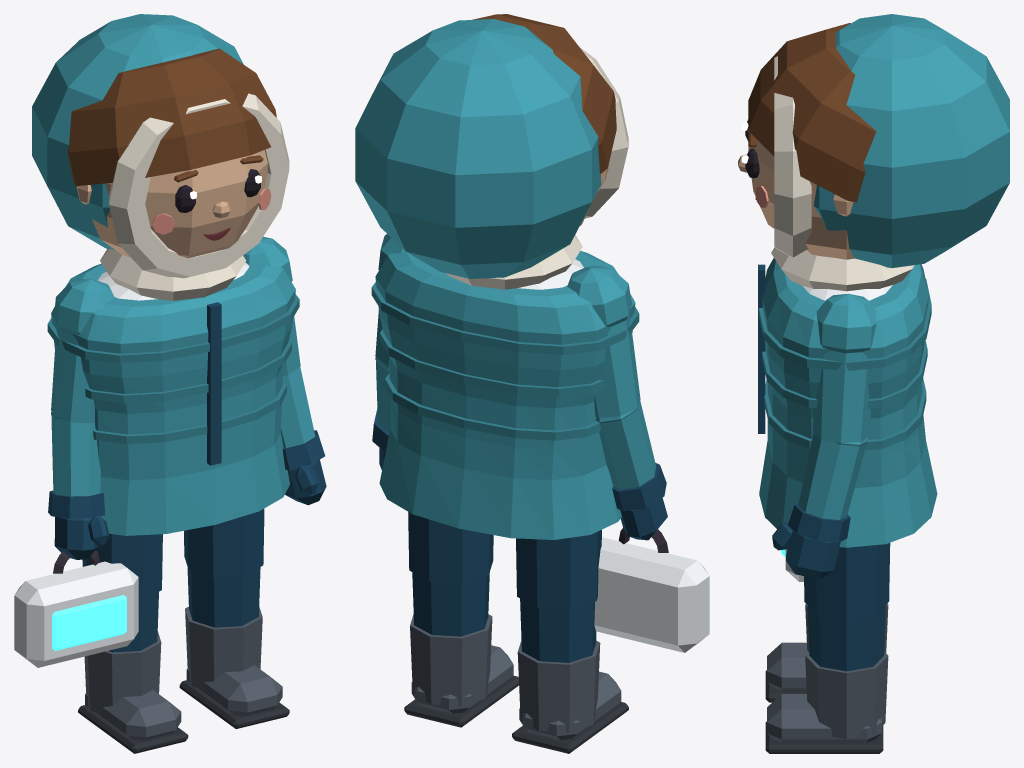
The model's file is fro-k1.glb.
3 renders of one model, left to right at view 1: azimuth 30°, elevation 25°; view 2: azimuth 150°, elevation 25°; view 3: azimuth 270°, elevation 25°, orthographic. The views are drawn at different scales.
Parts seen in each view (by area): view 1: parka, kapuze, haare, gegenstand_samplecase, arm_r, kopf, schuh_l, schuh_r, bein_l, arm_l, bein_r, kragen (+4 smaller); view 2: parka, kapuze, gegenstand_samplecase, arm_r, bein_r, bein_l, schuh_r, schuh_l, haare, kragen, arm_l, hand_r (+1 smaller); view 3: kapuze, parka, arm_l, haare, schuh_l, bein_l, kragen, kopf, schuh_r, hand_l, gesicht, torso.
Part boxes in pixels (x1=…): parka: x1=47, y1=263, x2=299, y2=535; kapuze: x1=32, y1=14, x2=289, y2=278; haare: x1=67, y1=48, x2=276, y2=186; gegenstand_samplecase: x1=14, y1=550, x2=138, y2=667; arm_r: x1=48, y1=279, x2=114, y2=518; kopf: x1=76, y1=150, x2=267, y2=258; schuh_l: x1=179, y1=606, x2=289, y2=728; schuh_r: x1=78, y1=631, x2=188, y2=753; bein_l: x1=184, y1=509, x2=264, y2=627; arm_l: x1=243, y1=236, x2=325, y2=470; bein_r: x1=82, y1=533, x2=162, y2=652; kragen: x1=100, y1=248, x2=246, y2=300; parka: x1=371, y1=251, x2=639, y2=539; kapuze: x1=355, y1=19, x2=628, y2=278; gegenstand_samplecase: x1=594, y1=528, x2=709, y2=652; arm_r: x1=567, y1=265, x2=666, y2=511; bein_r: x1=516, y1=529, x2=601, y2=662; bein_l: x1=408, y1=512, x2=493, y2=636; schuh_r: x1=512, y1=640, x2=628, y2=753; schuh_l: x1=404, y1=614, x2=518, y2=727; haare: x1=472, y1=14, x2=616, y2=174; kragen: x1=446, y1=235, x2=582, y2=289; arm_l: x1=372, y1=234, x2=405, y2=452; hand_r: x1=620, y1=498, x2=667, y2=540; kapuze: x1=774, y1=14, x2=1009, y2=267; parka: x1=758, y1=258, x2=937, y2=547; arm_l: x1=788, y1=293, x2=876, y2=542; haare: x1=748, y1=23, x2=876, y2=202; schuh_l: x1=765, y1=652, x2=888, y2=753; bein_l: x1=804, y1=543, x2=890, y2=671; kragen: x1=771, y1=248, x2=914, y2=291; kopf: x1=748, y1=131, x2=854, y2=259; schuh_r: x1=765, y1=604, x2=888, y2=702; hand_l: x1=772, y1=522, x2=840, y2=579; gesicht: x1=738, y1=119, x2=768, y2=207; torso: x1=803, y1=285, x2=892, y2=300.
Size of the model in its own units: 0.012 by 0.0251 by 0.00896.
